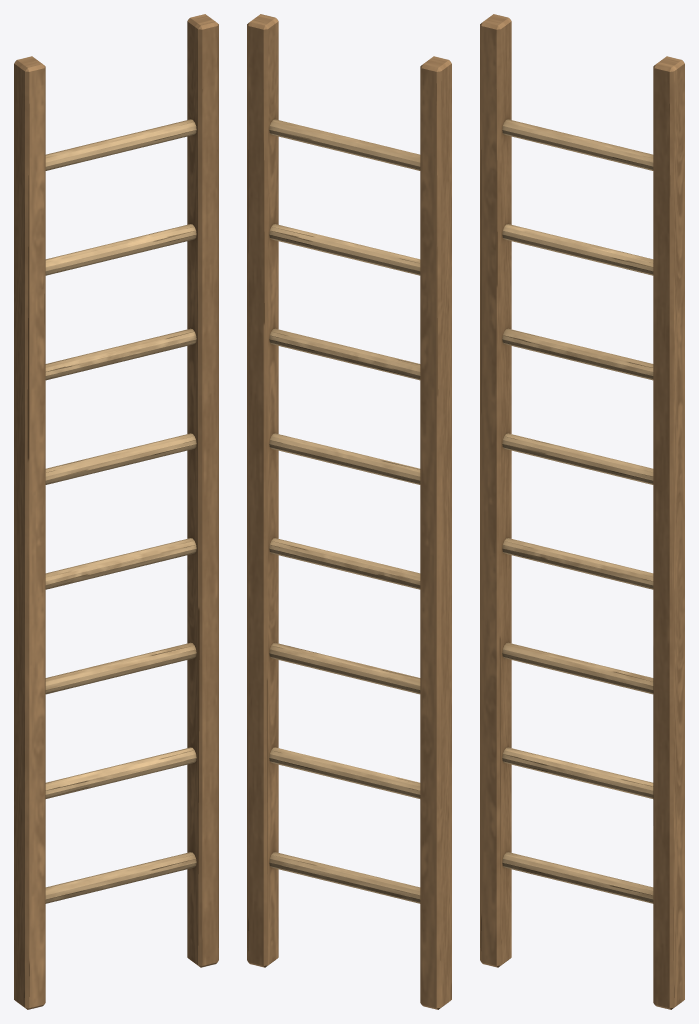
File: ladder.glb
The picture shows the model from 3 angles, left to right: view 1: azimuth 30°, elevation 25°; view 2: azimuth 150°, elevation 25°; view 3: azimuth 330°, elevation 25°; orthographic projection.
Visible parts, largest first — view 1: ladder; view 2: ladder; view 3: ladder.
Part boxes in pixels (left/top/right/bottom): ladder: left=14, top=14, right=218, bottom=1009; ladder: left=247, top=14, right=451, bottom=1009; ladder: left=480, top=14, right=684, bottom=1009.
Bounding box in the file's own units: 0.56 × 2.6 × 0.07.
Materials: 1 (1 with a texture image).
